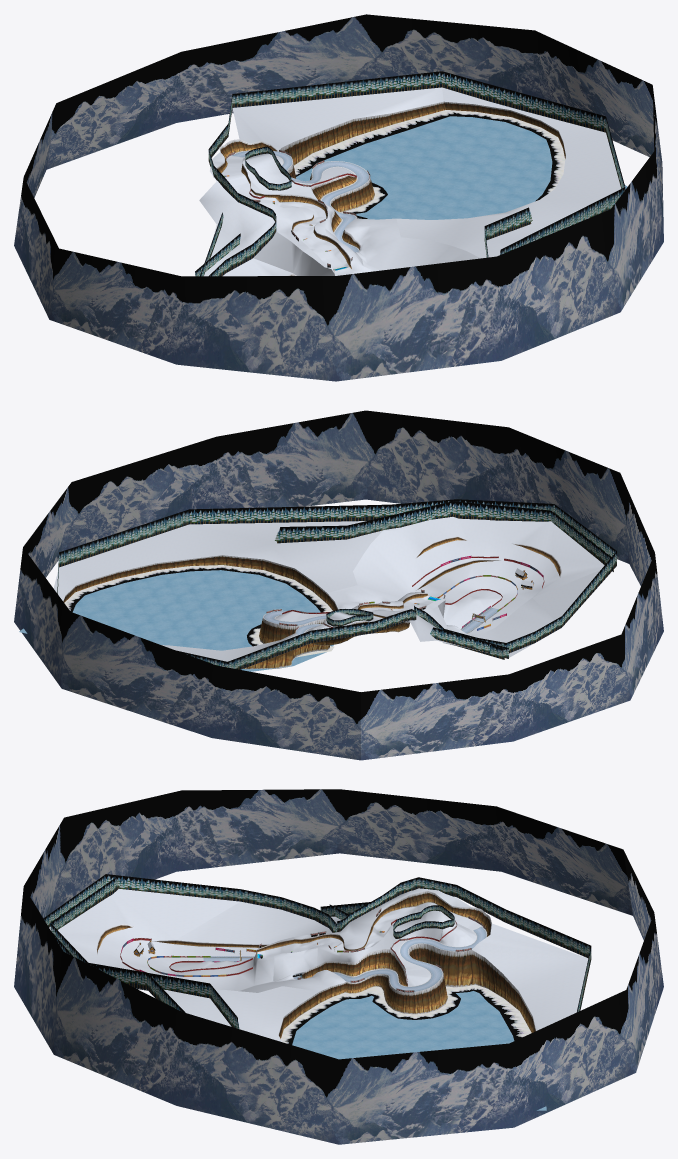
3 views of the same model, one above another, from view 1: azimuth 30°, elevation 25°; view 2: azimuth 150°, elevation 25°; view 3: azimuth 270°, elevation 25° (orthographic). The views are drawn at different scales.
Visible parts, largest first — view 1: BGHills.001, Snow.003, IceOOB.001, BGTrees.001, Parts1.001, Parts2.001, MainRoad.001; view 2: BGHills.001, Snow.003, BGTrees.001, IceOOB.001, Parts1.001, Parts2.001, MainRoad.001; view 3: BGHills.001, Snow.003, BGTrees.001, Parts1.001, IceOOB.001, Parts2.001, MainRoad.001, Parts3.001.
Boxes of the visible parts, x1=… form: BGHills.001: x1=14, y1=14, x2=663, y2=381; Snow.003: x1=199, y1=87, x2=621, y2=276; IceOOB.001: x1=296, y1=116, x2=627, y2=219; BGTrees.001: x1=195, y1=71, x2=625, y2=276; Parts1.001: x1=216, y1=101, x2=565, y2=275; Parts2.001: x1=226, y1=110, x2=565, y2=267; MainRoad.001: x1=230, y1=150, x2=369, y2=252; BGHills.001: x1=14, y1=410, x2=663, y2=760; Snow.003: x1=53, y1=516, x2=604, y2=661; BGTrees.001: x1=57, y1=499, x2=616, y2=669; IceOOB.001: x1=19, y1=570, x2=333, y2=671; Parts1.001: x1=63, y1=536, x2=561, y2=669; Parts2.001: x1=64, y1=565, x2=532, y2=668; MainRoad.001: x1=263, y1=607, x2=498, y2=634; BGHills.001: x1=14, y1=789, x2=663, y2=1144; Snow.003: x1=49, y1=888, x2=588, y2=1041; BGTrees.001: x1=43, y1=874, x2=591, y2=1028; Parts1.001: x1=96, y1=891, x2=535, y2=1038; IceOOB.001: x1=292, y1=991, x2=546, y2=1110; Parts2.001: x1=133, y1=908, x2=531, y2=1044; MainRoad.001: x1=203, y1=925, x2=487, y2=992; Parts3.001: x1=120, y1=919, x2=456, y2=984.
Size of the model in its own units: 16180 by 2813 by 14867.
Materials: 11 (11 with a texture image).
